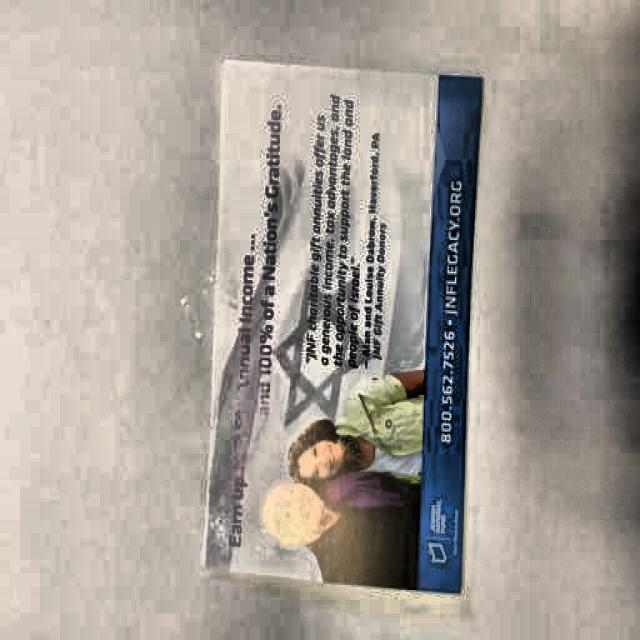paper: (205, 49, 471, 608)
